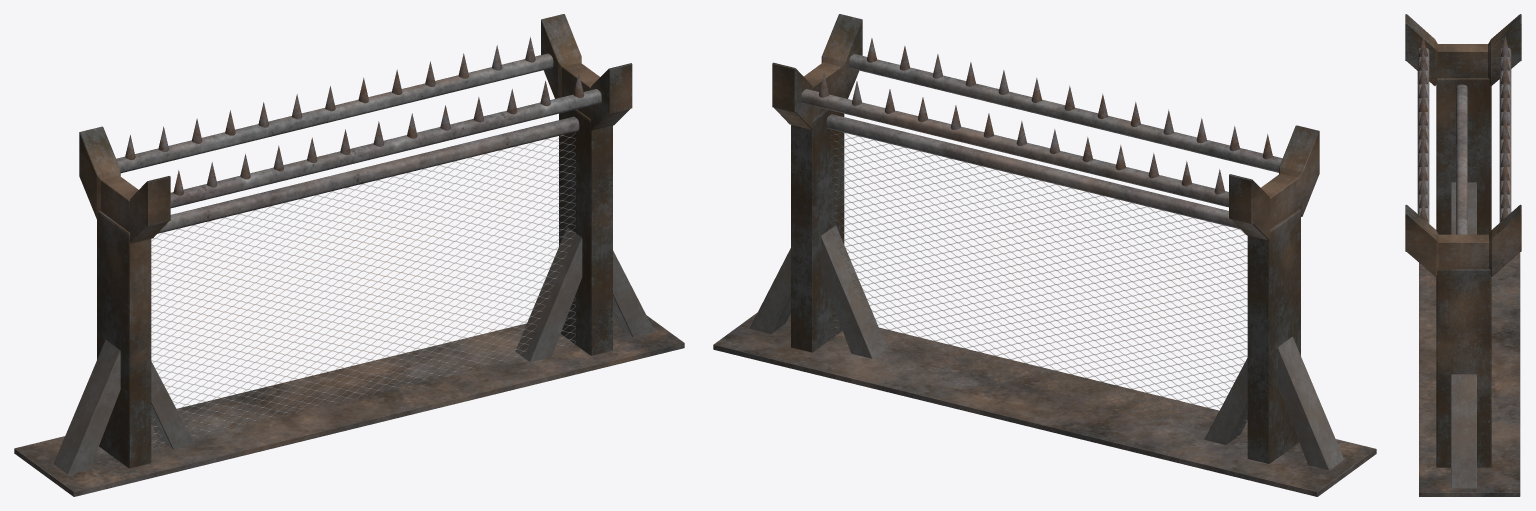
Rendered from spiky_iron_fence.glb.
3 renders of one model, left to right at view 1: azimuth 30°, elevation 25°; view 2: azimuth 150°, elevation 25°; view 3: azimuth 270°, elevation 25°, orthographic. The views are drawn at different scales.
Parts seen in each view (by area): view 1: Metal_support, SIngle_Fence; view 2: Metal_support, SIngle_Fence; view 3: Metal_support.
Part boxes in pixels (<box>): Metal_support: <box>14,14,684,496</box>; SIngle_Fence: <box>151,133,575,447</box>; Metal_support: <box>713,14,1376,496</box>; SIngle_Fence: <box>830,130,1247,440</box>; Metal_support: <box>1405,14,1521,496</box>.
Size of the model in its own units: 868 by 418 by 170.
2 materials, 2 textured.
